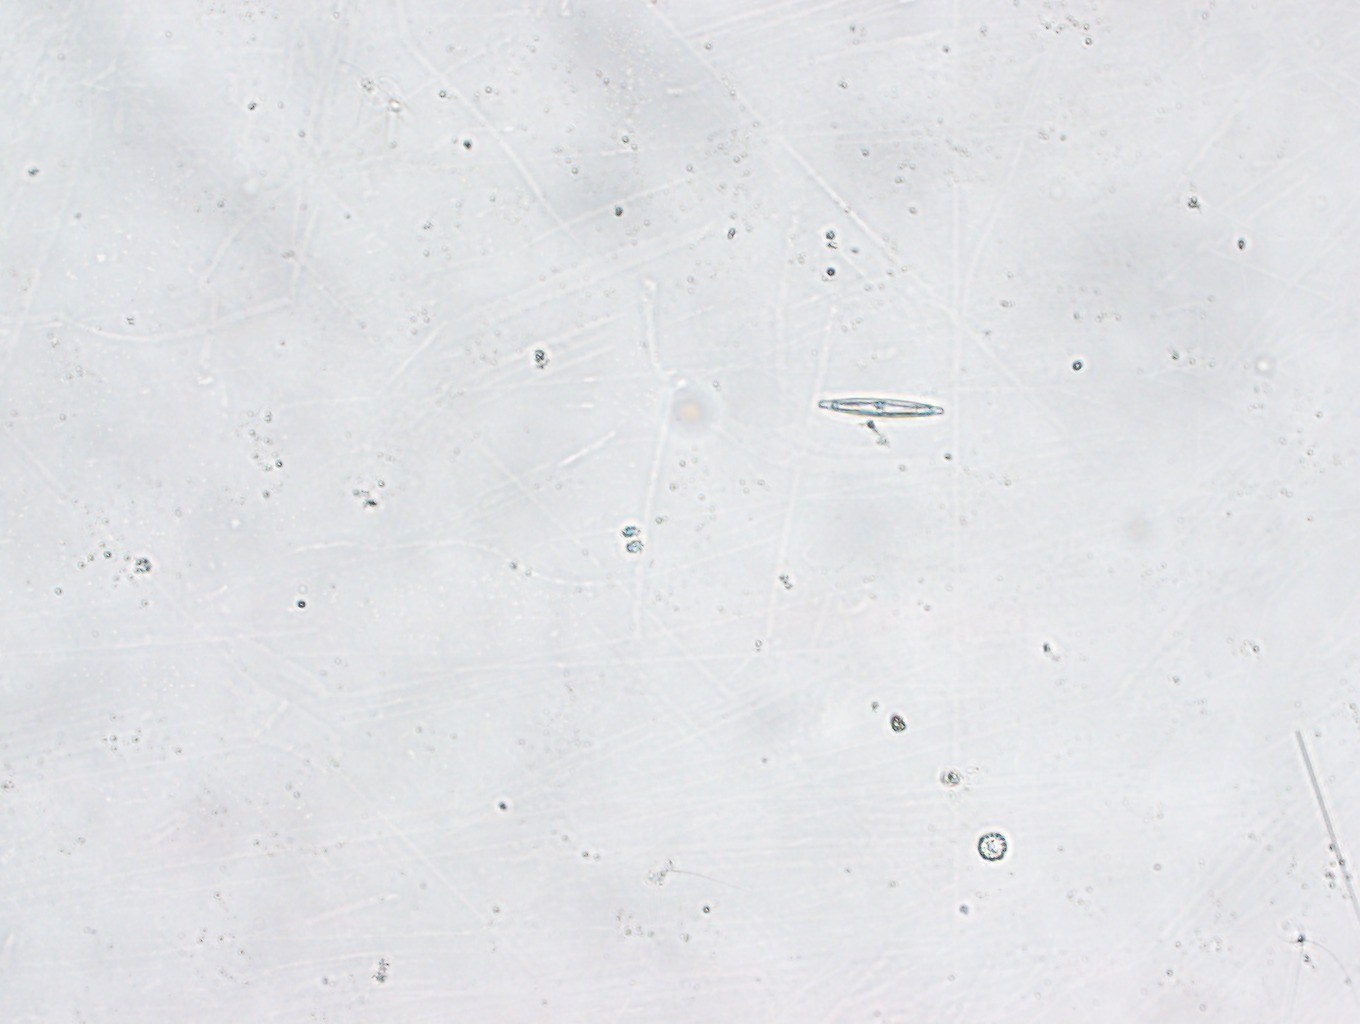navicula: (818, 396, 945, 418)
